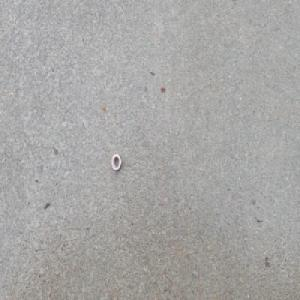Nut: (111, 153, 121, 171)
